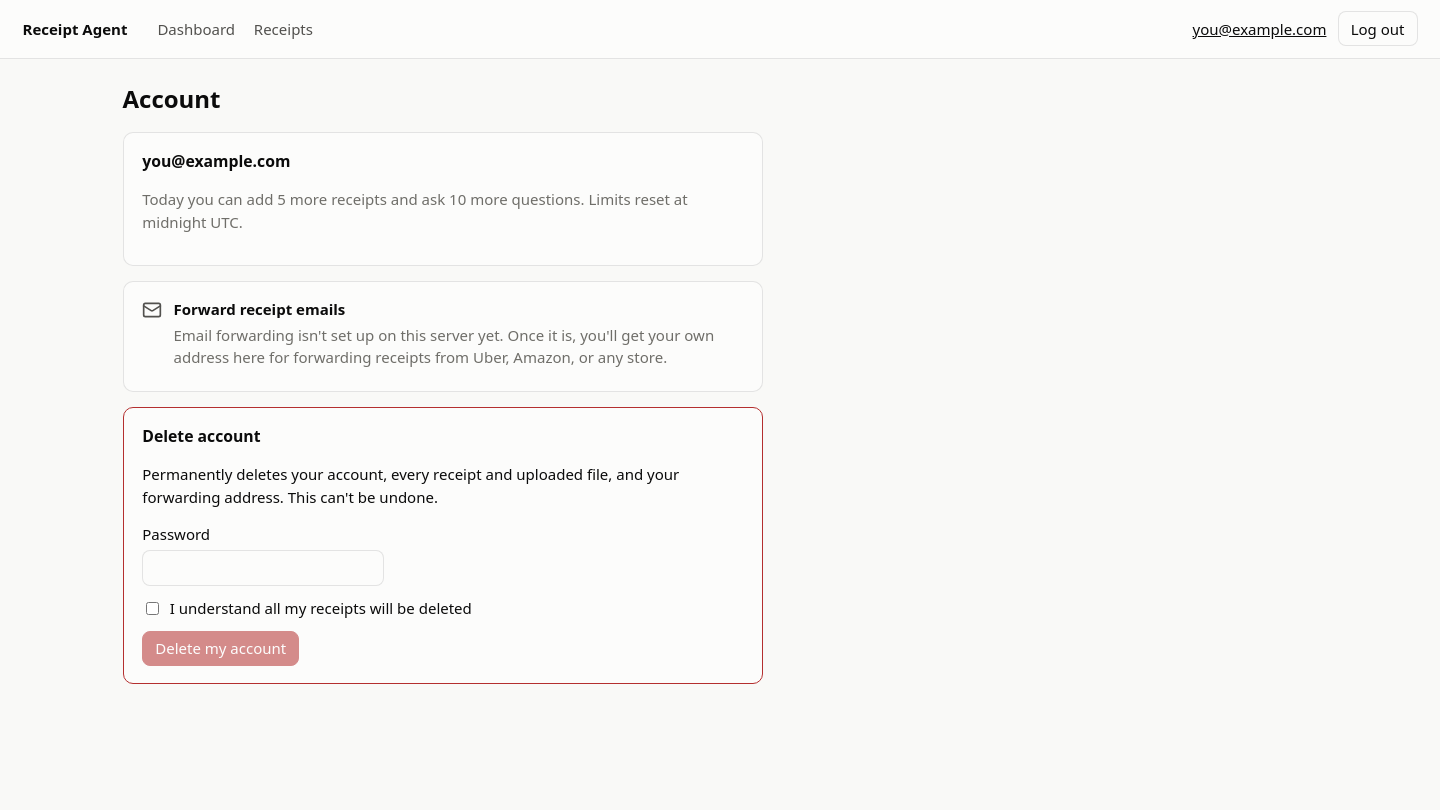
it: deletes the account with the password, then shows the login page
Expected: the button "Delete my account" is disabled, [142,631,299,666]
Type "my password" into the password field labelled "Password".
click(263, 568); type("my password")  # box [142,550,384,586]
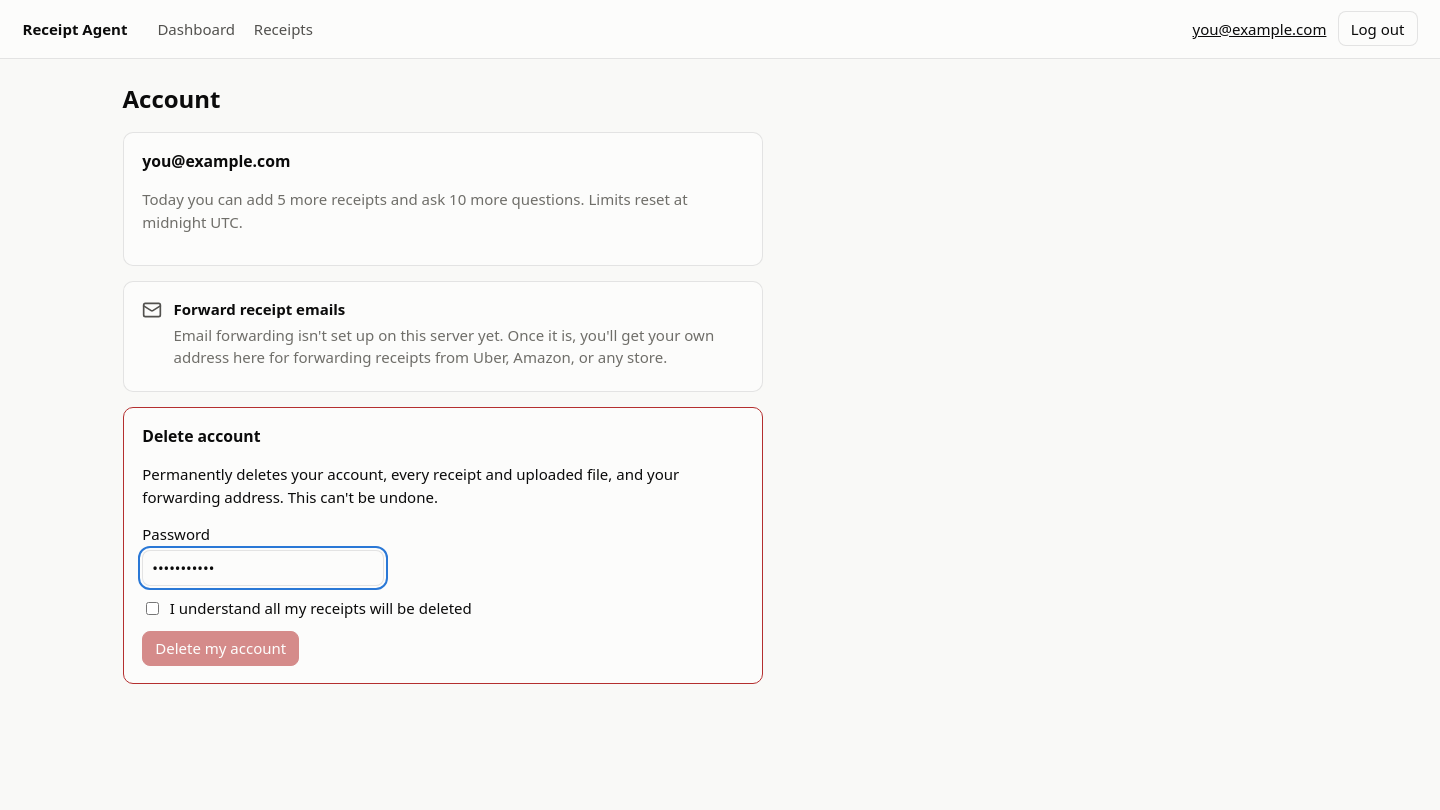
Click the checkbox labelled "I understand all my receipts will be deleted".
click(153, 608)  # box [146,602,159,615]
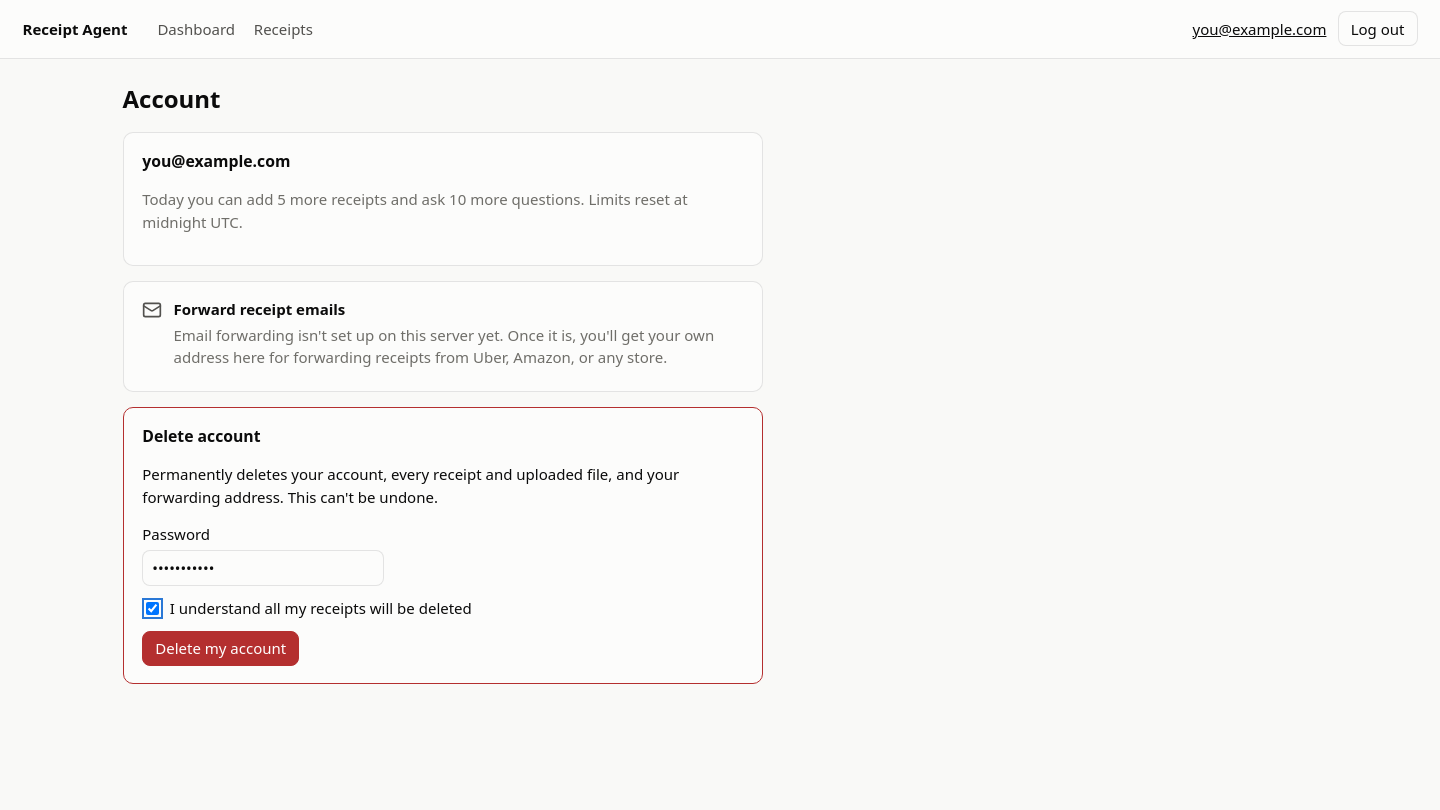
Click the button "Delete my account".
click(221, 648)  # box [142,631,299,666]
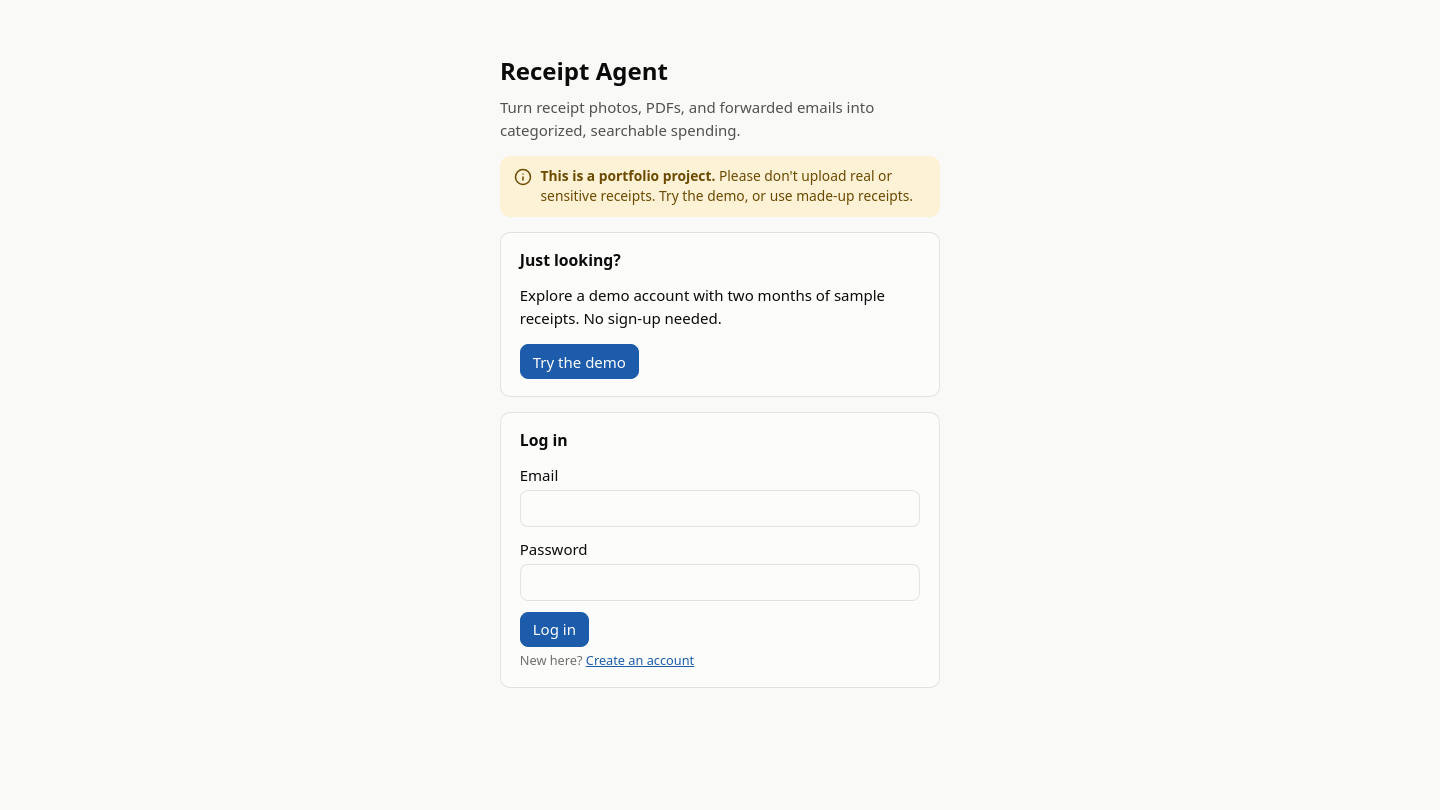
Result: the button "Try the demo" is shown at [520,344,639,379]
